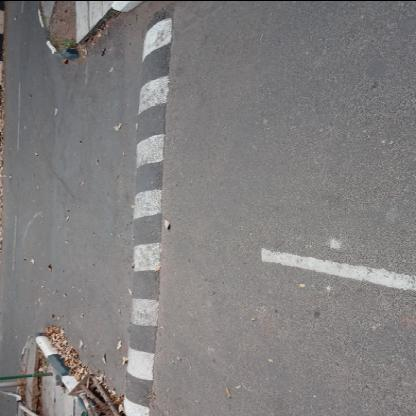speed-bumps: (110, 4, 172, 416)
